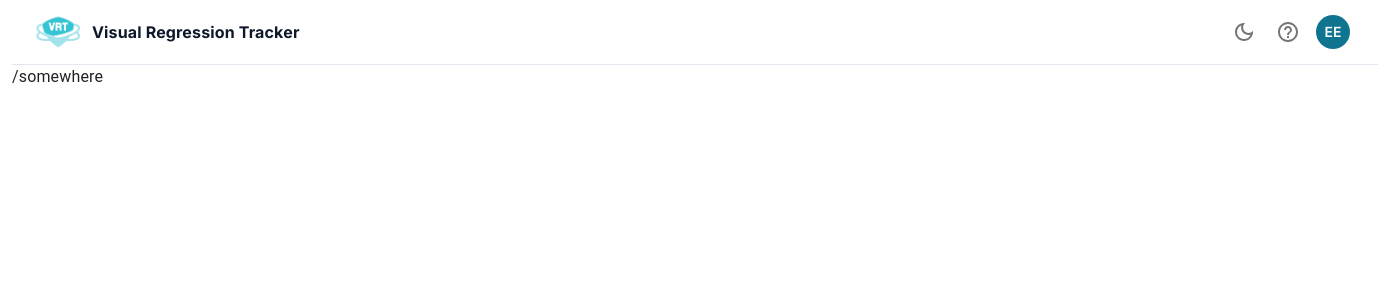
Header › logged in › hides Users from a editor
Click the button with test id "avatarMenuButton".
click(1333, 32)  # box 1312,11 -> 1354,53
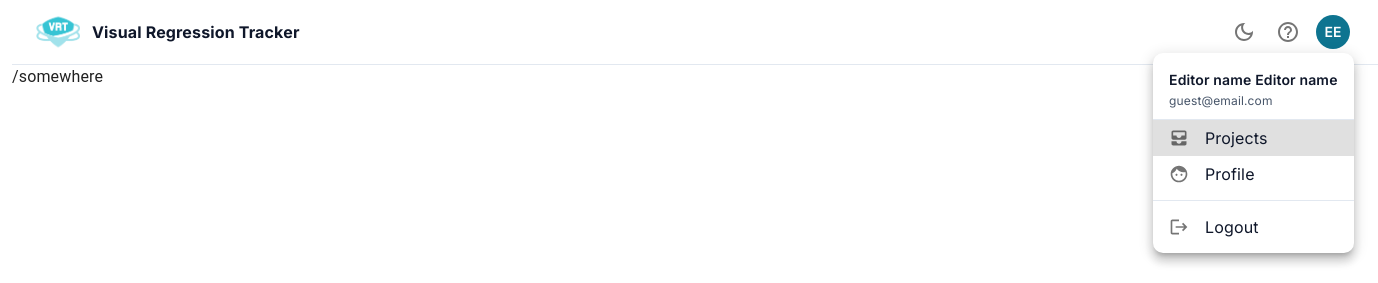
Now the menu item "Projects" is shown, box 1153,120 -> 1354,156
Now the menu item "Profile" is shown, box 1169,164 -> 1255,184
Now the menu item "Logout" is shown, box 1169,217 -> 1259,237
